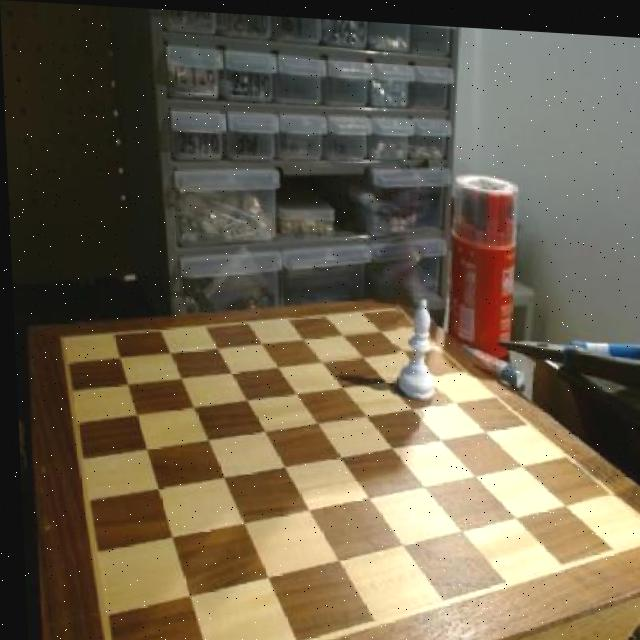black-rook: (391, 285, 444, 405)
